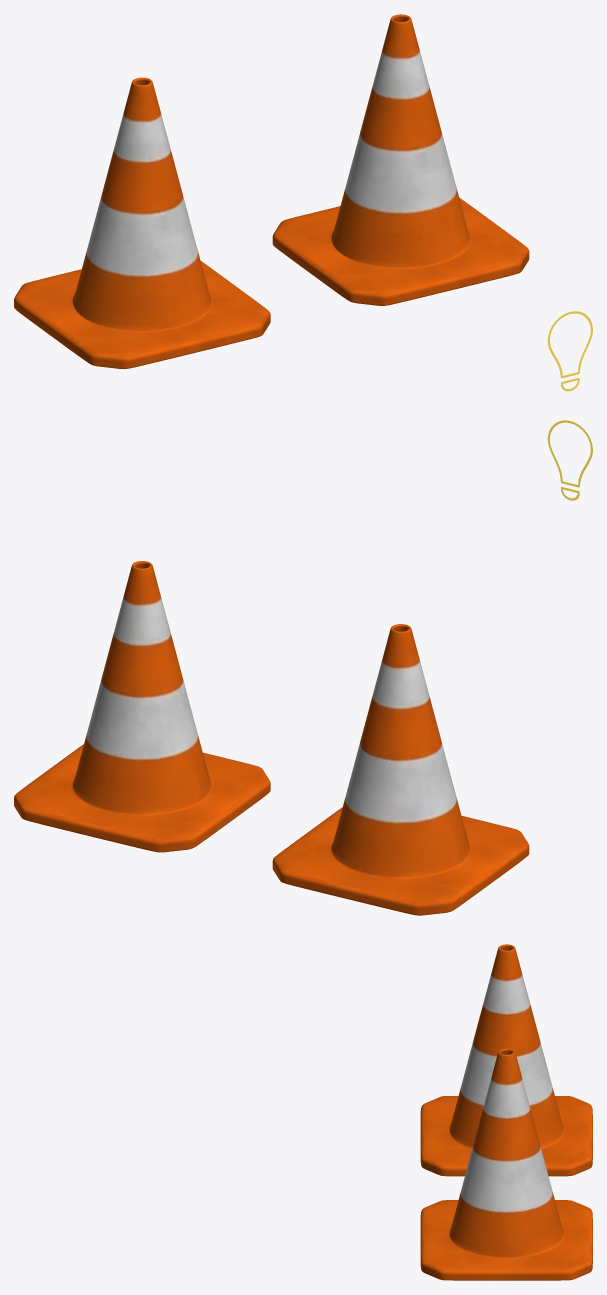
Rendered from traffic-cone.glb.
3 renders of one model, top to bottom at view 1: azimuth 30°, elevation 25°; view 2: azimuth 150°, elevation 25°; view 3: azimuth 270°, elevation 25°, orthographic. The views are drawn at different scales.
Parts seen in each view (by area): view 1: Cone Normal, Bulb; view 2: Cone Normal; view 3: Cone Normal.
Boxes of the visible parts, x1,y1,x2,y2 form: Cone Normal: (14,14,529,368); Bulb: (547,311,592,391); Cone Normal: (14,561,529,915); Cone Normal: (420,944,592,1280).
Bounding box in the file's own units: 1.02 × 0.5189 × 1.41.
2 materials, 1 textured.
